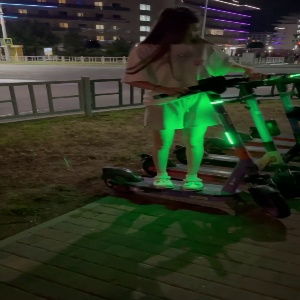human on a scooter: (98, 8, 289, 219)
